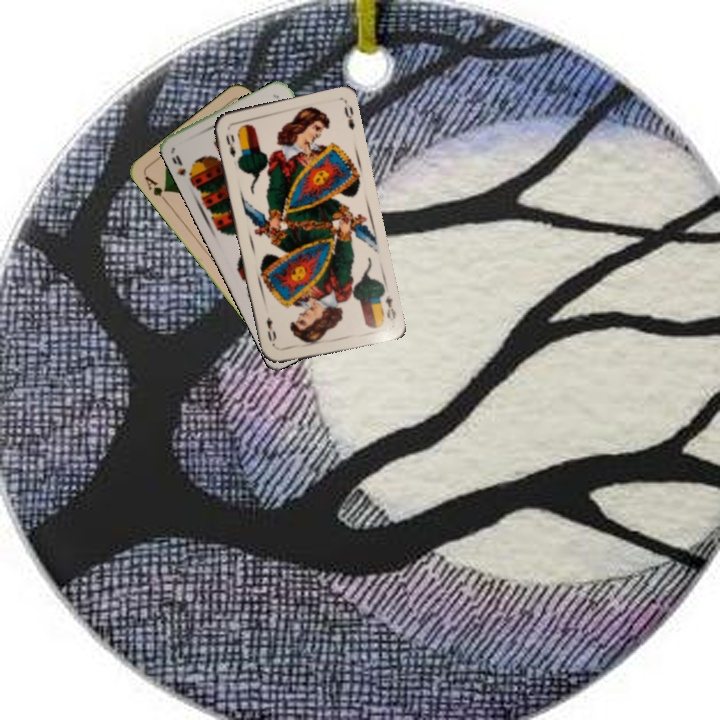EO: (381, 291, 399, 324), (222, 130, 238, 160)
GA: (140, 172, 171, 206)
S9: (168, 151, 197, 185)
